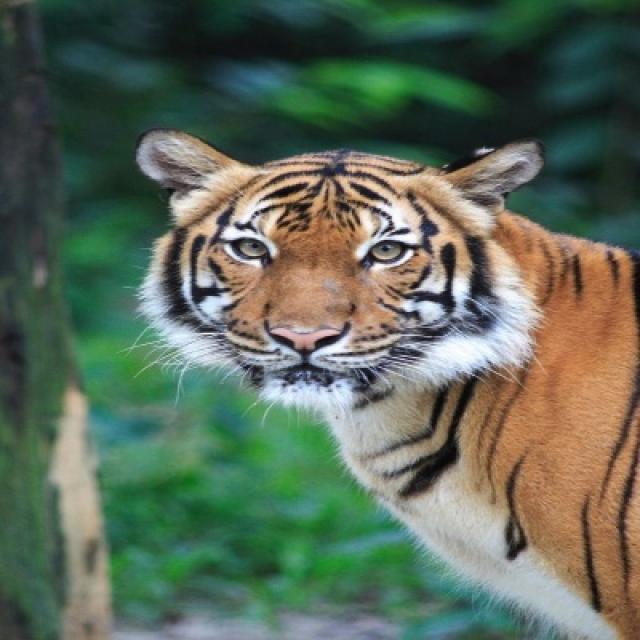Tiger: (139, 128, 638, 638)
